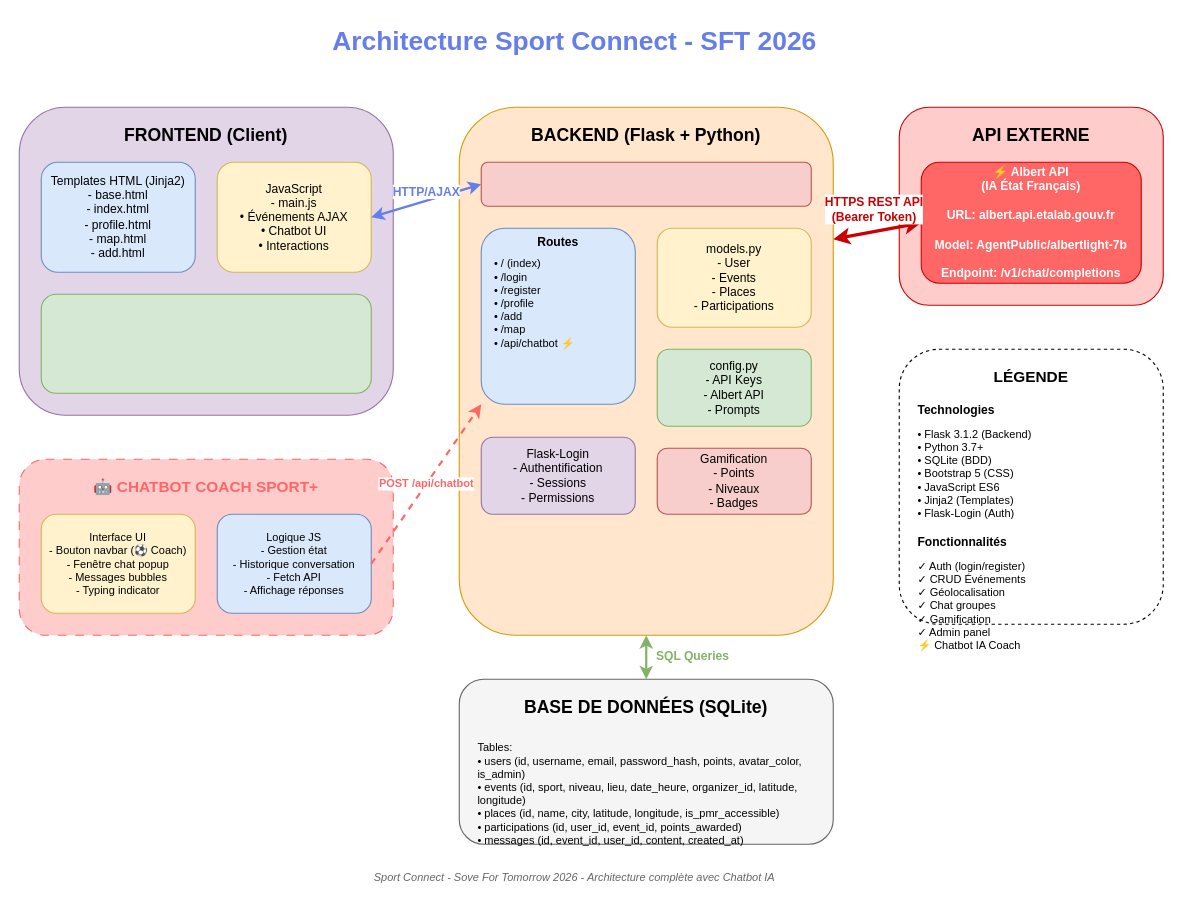
Image size: 1183x906. Some labels were removed from this diagram. The shapes that lost their labels are listed below. From the top down, each one's centre as x and y in pixels, then its label:
At (645,183): "app.py - Application Flask".
At (205,343): "CSS (Bootstrap 5) - style.css • Responsive design • Chatbot styles • Animations".
